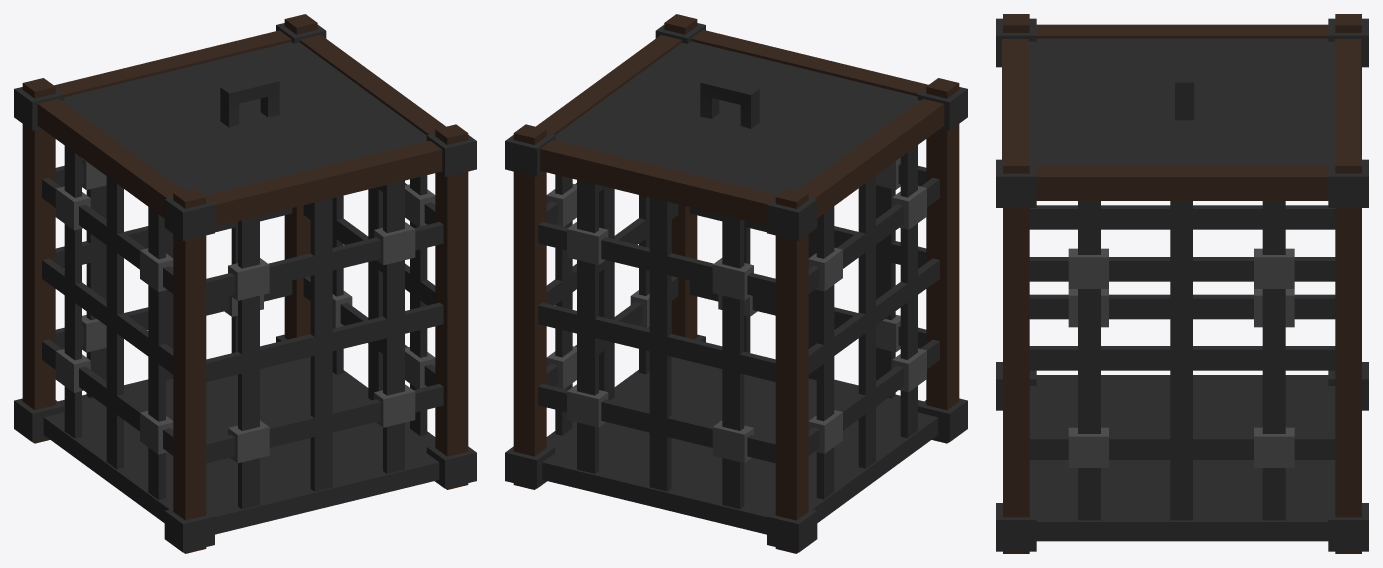
Rendered from envi_cage.fbx.
3 views of the same model, side by side, from view 1: azimuth 30°, elevation 25°; view 2: azimuth 150°, elevation 25°; view 3: azimuth 270°, elevation 25° (orthographic). The views are drawn at different scales.
Parts seen in each view (by area): view 1: pCube216; view 2: pCube216; view 3: pCube216.
Part boxes in pixels (x1,y1,x2,y2): pCube216: (14, 14, 476, 553); pCube216: (505, 14, 967, 553); pCube216: (996, 14, 1368, 553).
Bounding box in the file's own units: 2.73 × 3.32 × 2.72.
